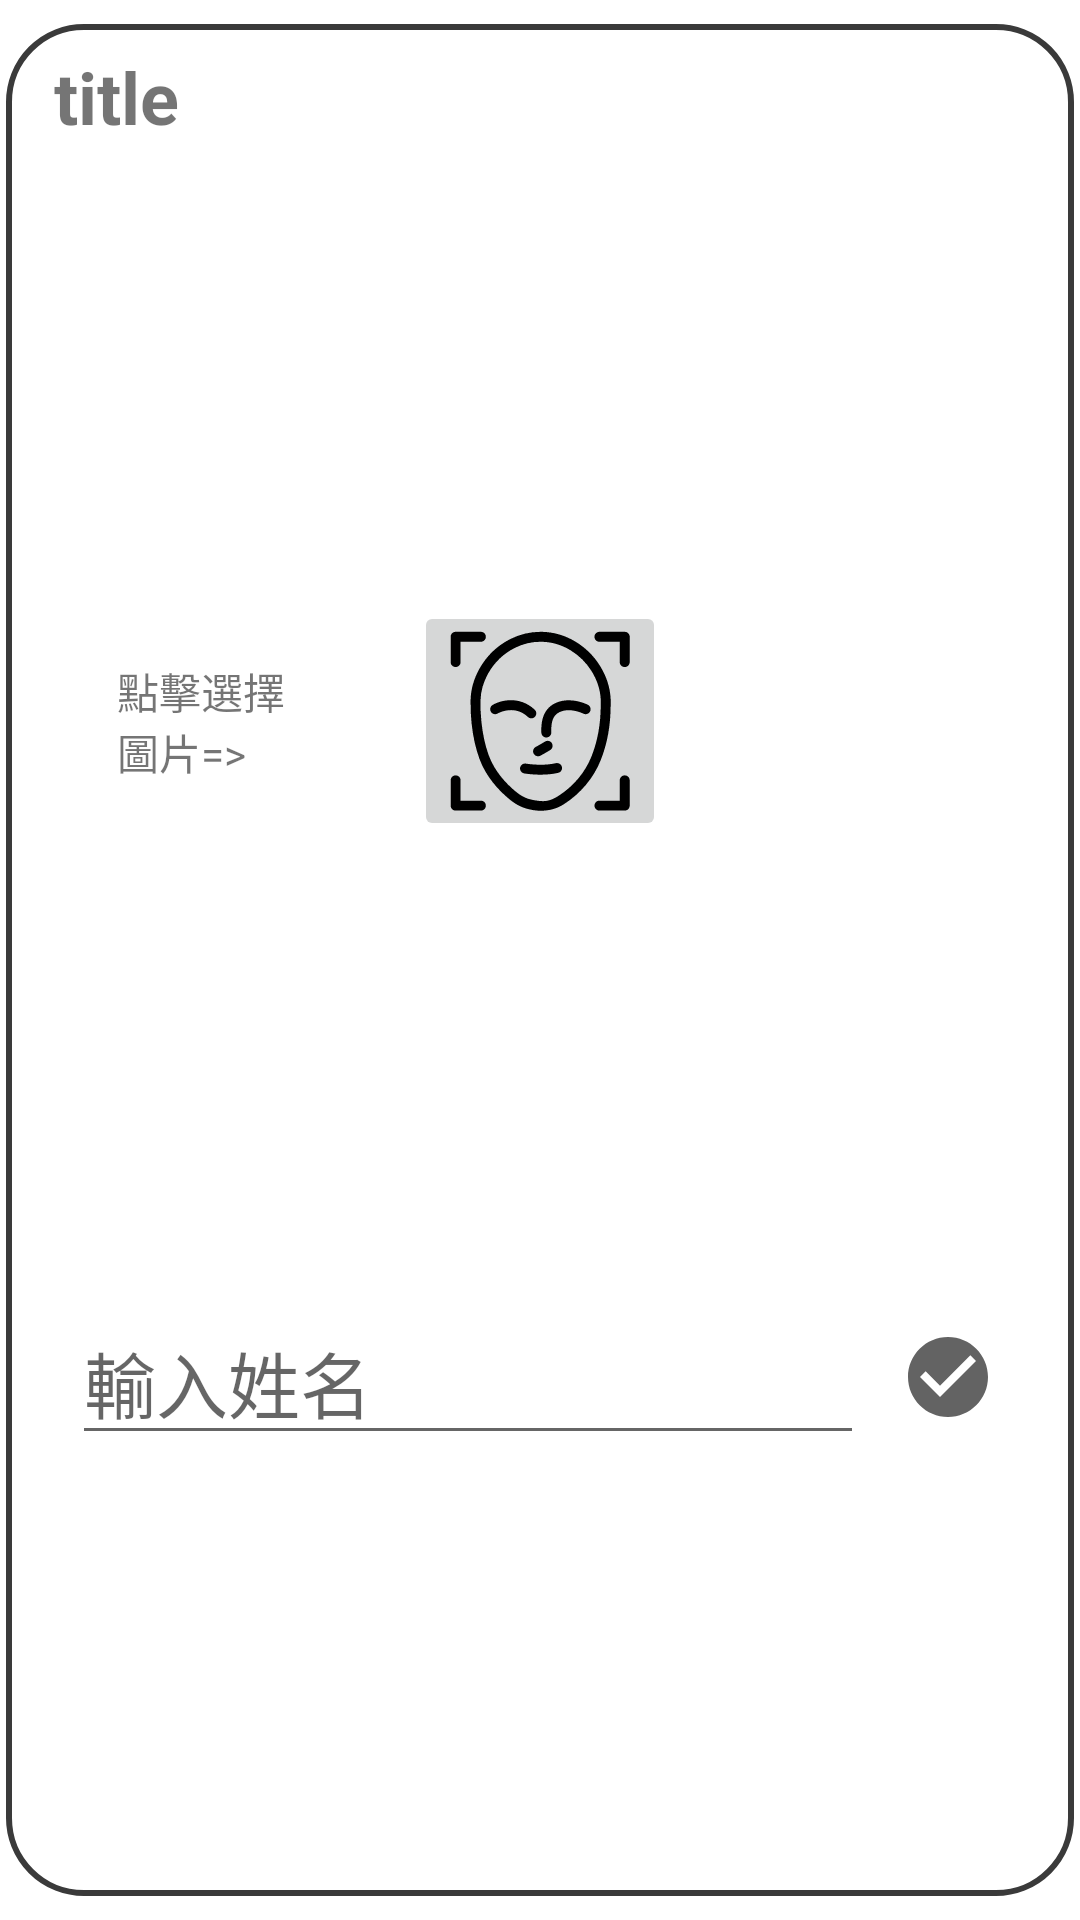

Named icons in this screenshot (1080*1920) and their bounding boxes, box=[x1, y1, x2, y2]:
check: box=[908, 1337, 988, 1417]
face: box=[426, 619, 654, 823]
